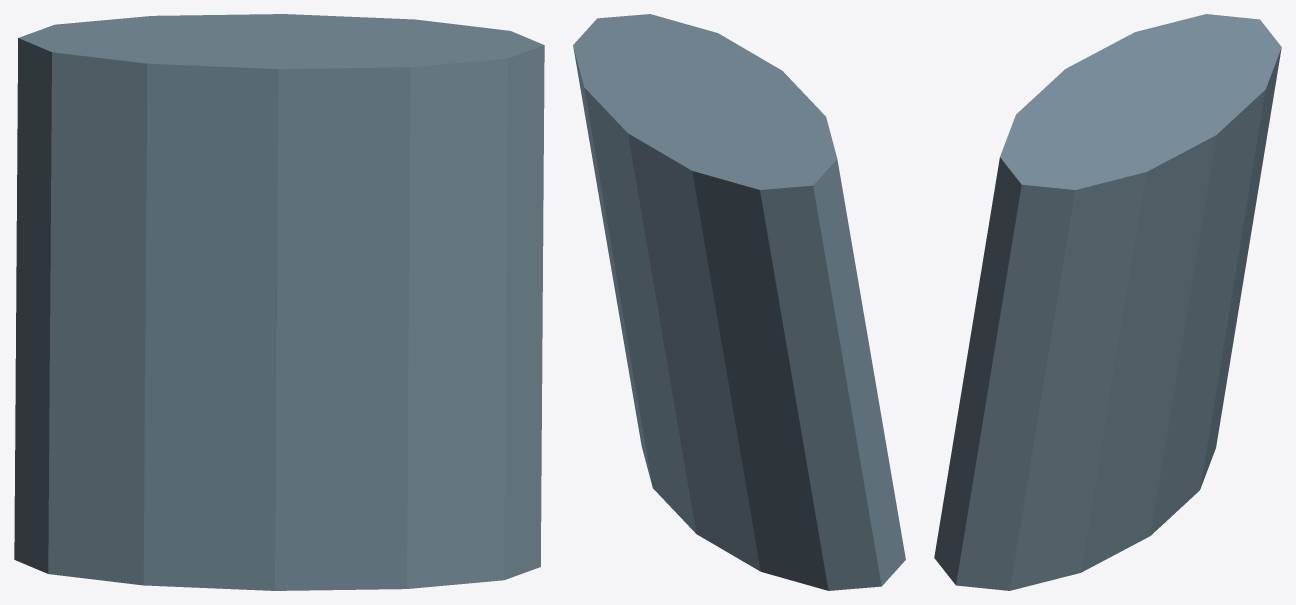
Rendered from astronaut_spawn_group1181203045_lev4.glb.
3 renders of one model, left to right at view 1: azimuth 30°, elevation 25°; view 2: azimuth 150°, elevation 25°; view 3: azimuth 270°, elevation 25°, orthographic. The views are drawn at different scales.
Parts seen in each view (by area): view 1: astronaut_spawn_group1181203045_lev4; view 2: astronaut_spawn_group1181203045_lev4; view 3: astronaut_spawn_group1181203045_lev4.
Boxes of the visible parts, x1,y1,x2,y2 form: astronaut_spawn_group1181203045_lev4: (14,14,544,590); astronaut_spawn_group1181203045_lev4: (573,14,905,590); astronaut_spawn_group1181203045_lev4: (934,14,1281,590).
Size of the model in its own units: 0.437 by 0.4996 by 0.3532.
